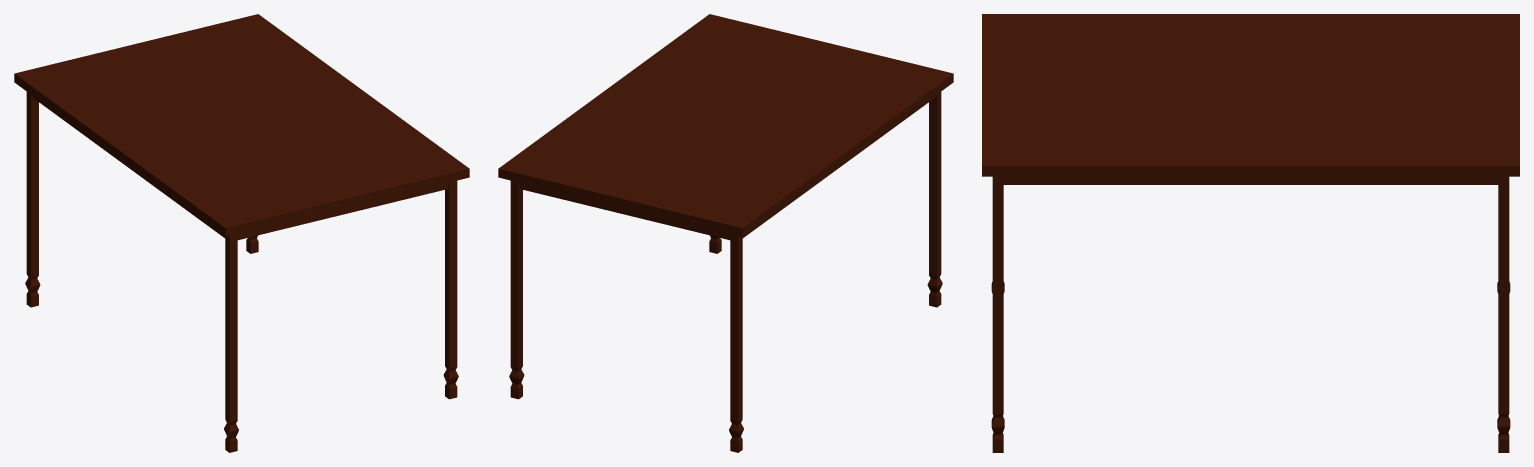
The model's file is Kitchen Table.fbx.
3 renders of one model, left to right at view 1: azimuth 30°, elevation 25°; view 2: azimuth 150°, elevation 25°; view 3: azimuth 270°, elevation 25°, orthographic. The views are drawn at different scales.
Visible parts, largest first — view 1: Table.001; view 2: Table.001; view 3: Table.001.
Boxes of the visible parts, bbox=[...] form: Table.001: bbox=[14, 14, 469, 452]; Table.001: bbox=[498, 14, 953, 452]; Table.001: bbox=[982, 14, 1519, 452].
Size of the model in its own units: 100 by 90 by 150.
